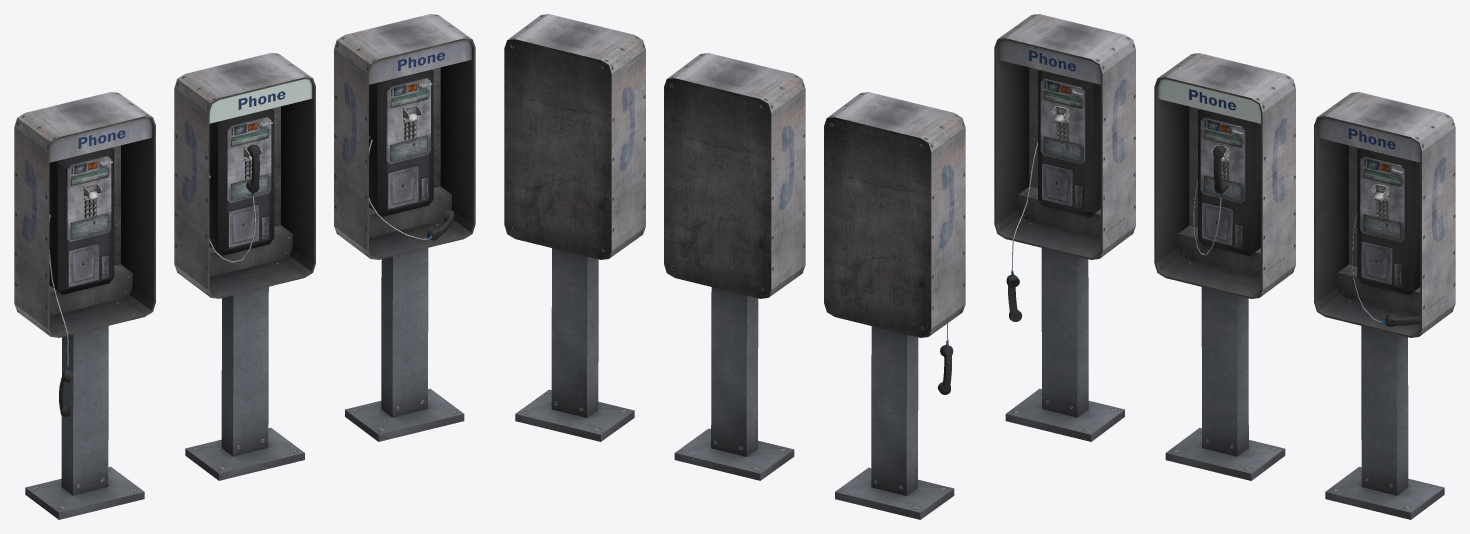
File: phoneboot.fbx
The picture shows the model from 3 angles, left to right: view 1: azimuth 30°, elevation 25°; view 2: azimuth 150°, elevation 25°; view 3: azimuth 330°, elevation 25°; orthographic projection.
Parts seen in each view (by area): view 1: Phone_box (×2), PhoneBootStand (×3), Phone (×3), PhoneBox, Handset; view 2: Phone_box (×2), PhoneBox, PhoneBootStand (×3), Handset; view 3: Phone_box (×2), PhoneBootStand (×3), Phone (×3), PhoneBox, Handset.
Part boxes in pixels (x1,y1,x2,y2): Phone_box (×2): (14,53,315,337); PhoneBootStand (×3): (25,248,464,519); Phone (×3): (49,69,454,294); PhoneBox: (334,14,475,259); Handset: (49,214,72,416); Phone_box (×2): (664,53,965,337); PhoneBox: (504,14,645,259); PhoneBootStand (×3): (515,248,954,519); Handset: (937,323,953,394); Phone_box (×2): (994,14,1295,298); PhoneBootStand (×3): (1005,248,1444,519); Phone (×3): (1038,70,1420,326); PhoneBox: (1314,92,1455,337); Handset: (1006,142,1037,321).
Bounding box in the file's own units: 0.4389 × 0.3753 × 0.0675.
